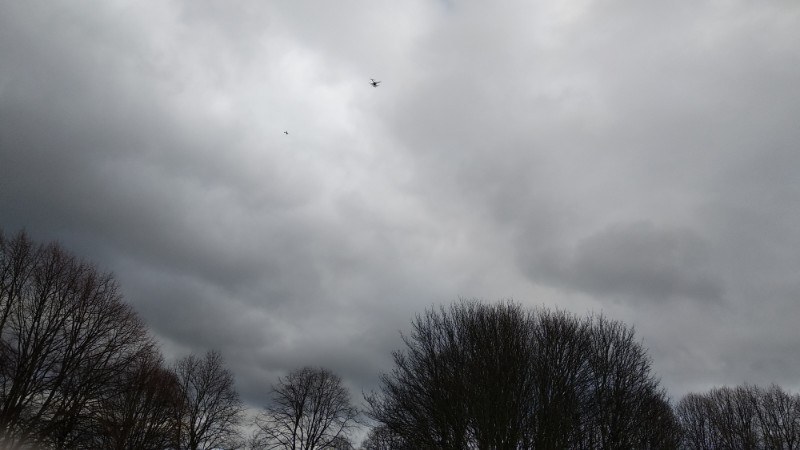drone: (368, 78, 380, 86)
